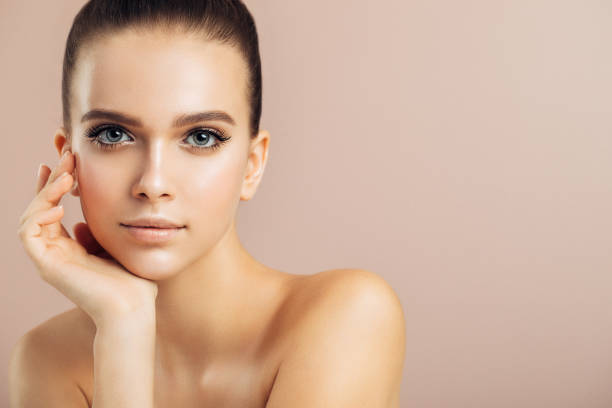ears: (239, 132, 270, 200)
eyes: (84, 121, 137, 149), (176, 125, 229, 153)
mouth: (117, 216, 191, 243)
nose: (131, 151, 177, 202)
